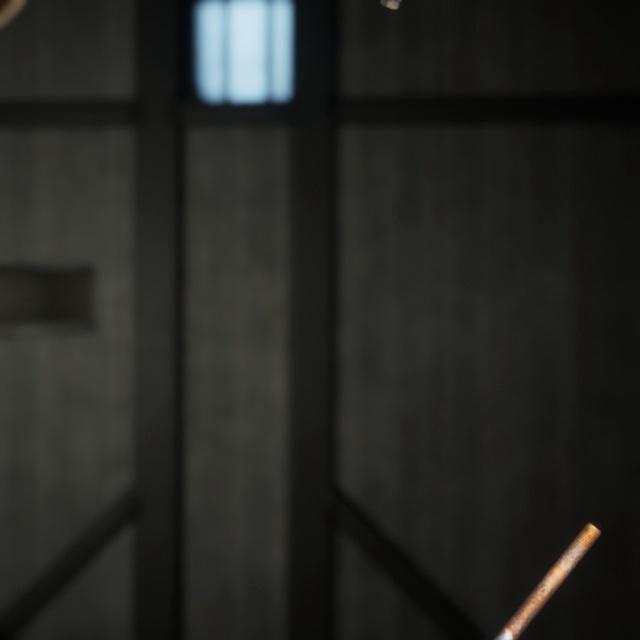bolt: (475, 495, 605, 640)
